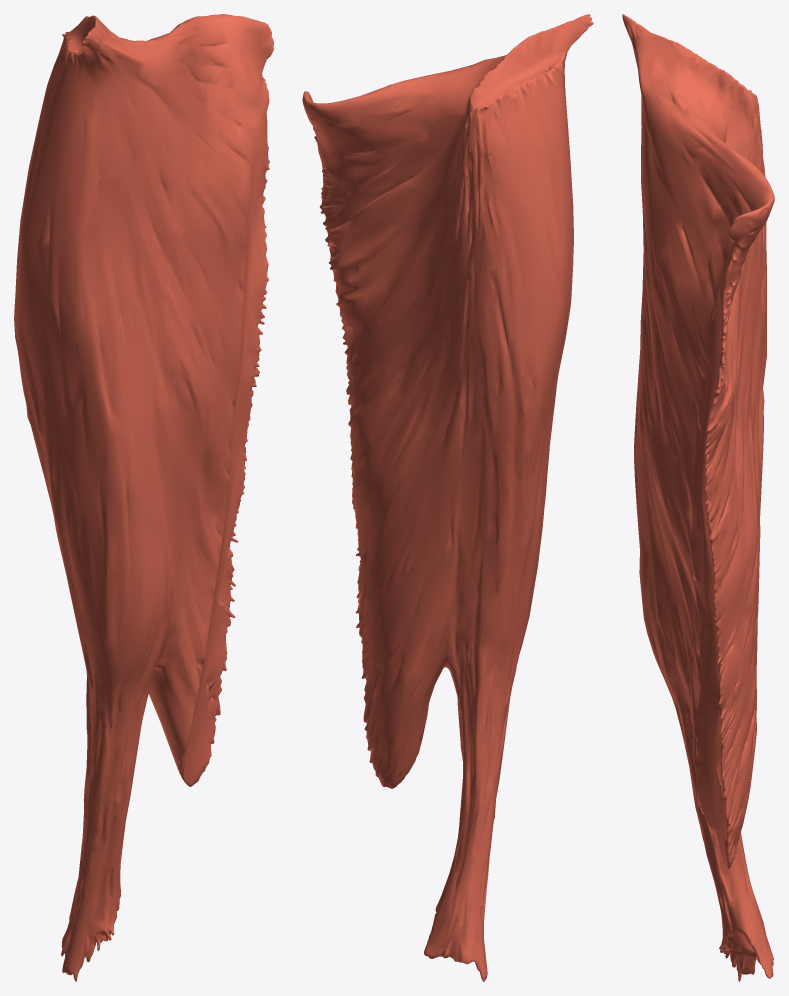
The model's file is adductor-magnus.glb.
3 renders of one model, left to right at view 1: azimuth 30°, elevation 25°; view 2: azimuth 150°, elevation 25°; view 3: azimuth 270°, elevation 25°, orthographic. The views are drawn at different scales.
Visible parts, largest first — view 1: Adductor magnus.l; view 2: Adductor magnus.l; view 3: Adductor magnus.l.
Part boxes in pixels (bbox=[...]): Adductor magnus.l: bbox=[14, 14, 273, 981]; Adductor magnus.l: bbox=[302, 14, 593, 981]; Adductor magnus.l: bbox=[622, 14, 774, 981].
Size of the model in its own units: 0.0976 by 0.3578 by 0.0524.
